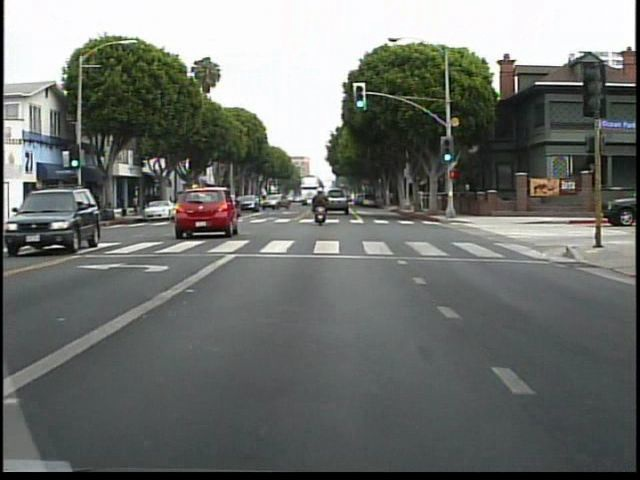person: (309, 181, 334, 227)
